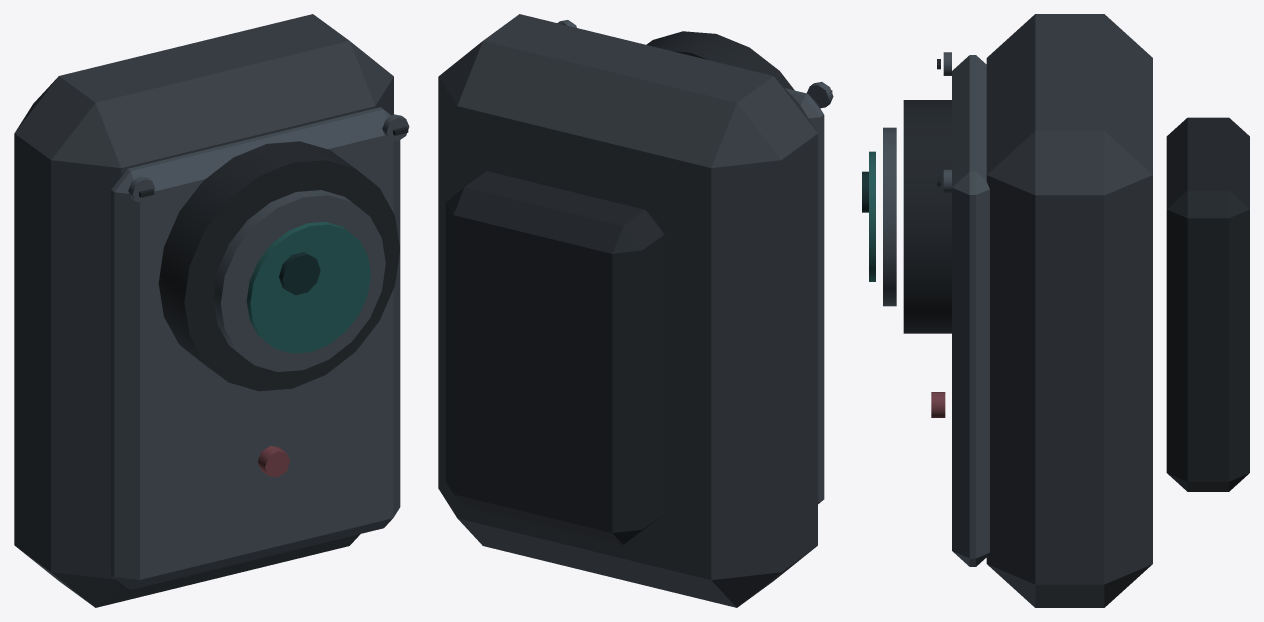
File: body-camera.glb
3 renders of one model, left to right at view 1: azimuth 30°, elevation 25°; view 2: azimuth 150°, elevation 25°; view 3: azimuth 270°, elevation 25°, orthographic. The views are drawn at different scales.
Parts seen in each view (by area): view 1: body-camera; view 2: body-camera; view 3: body-camera.
Boxes of the visible parts, x1,y1,x2,y2 form: body-camera: (14,14,409,607); body-camera: (438,14,833,607); body-camera: (862,14,1249,607).
Bounding box in the file's own units: 0.054 × 0.076 × 0.056.
